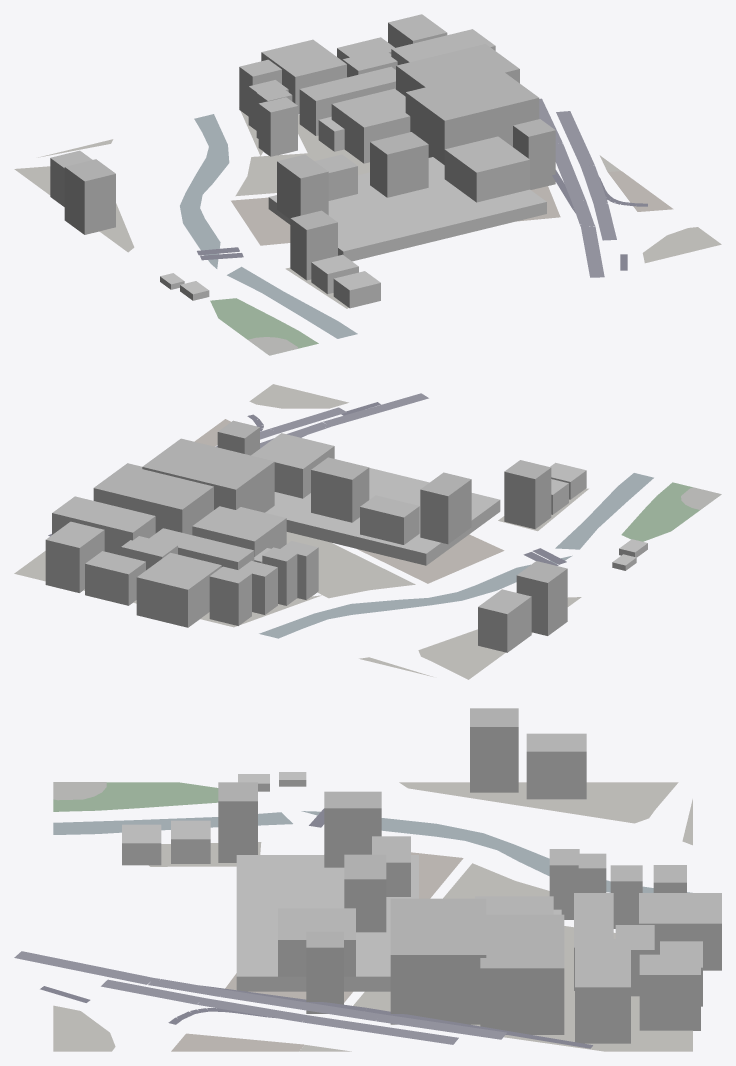
Rendered from 127_104_mid.glb.
3 renders of one model, top to bottom at view 1: azimuth 30°, elevation 25°; view 2: azimuth 150°, elevation 25°; view 3: azimuth 270°, elevation 25°, orthographic. The views are drawn at different scales.
Size of the model in its own units: 529 by 65.4 by 553.
